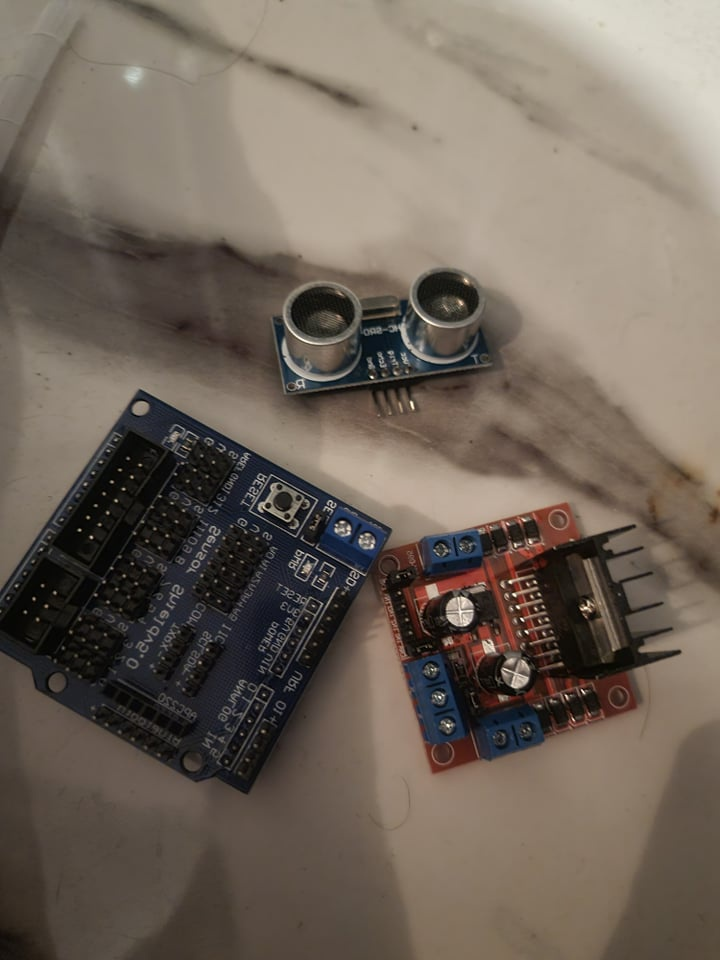5V EXPANSION: (2, 390, 394, 796)
MOTOR: (372, 501, 679, 775)
SENSOR: (271, 265, 498, 410)
